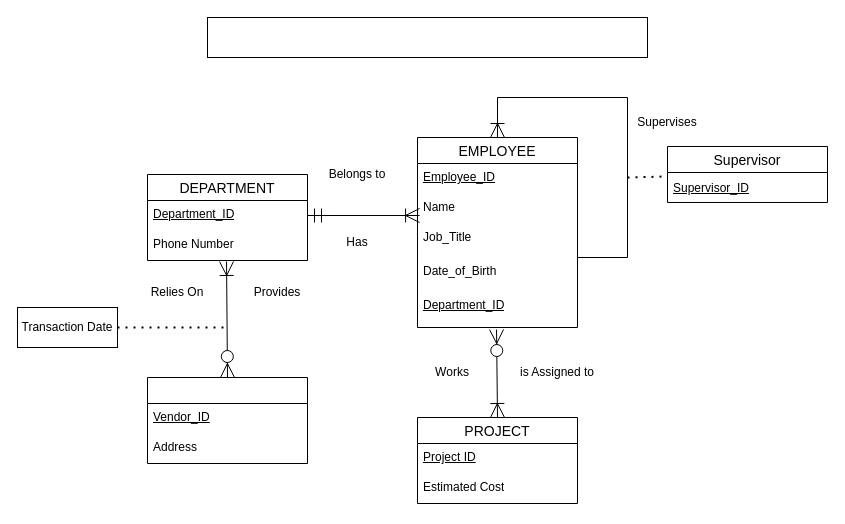
The diagram is 845 pixels wide and 524 high, and some of its shapes have lost their labels. Each missing label, with the box of its shape:
Stellar Auditing Firm: (206, 16, 648, 58)
SUPPLIER: (146, 376, 308, 464)
